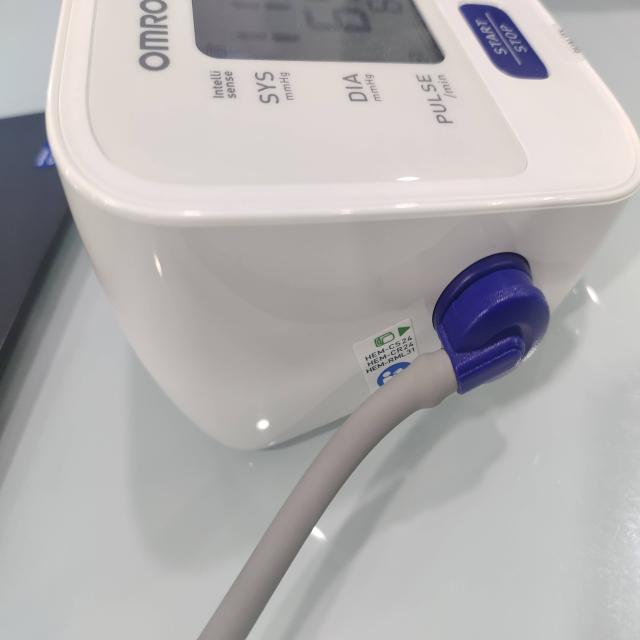bp: (45, 0, 640, 454)
